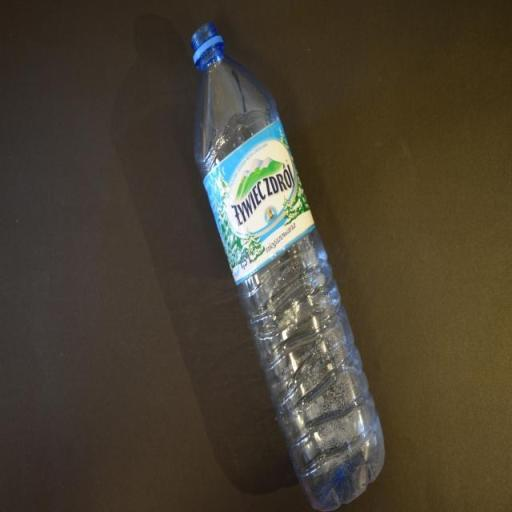plastic: (193, 24, 387, 512)
